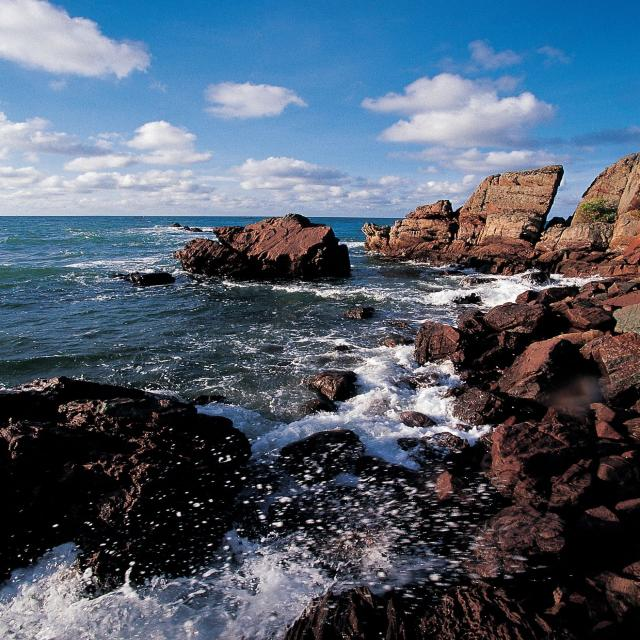reef: (192, 344, 530, 600), (186, 186, 576, 316)
